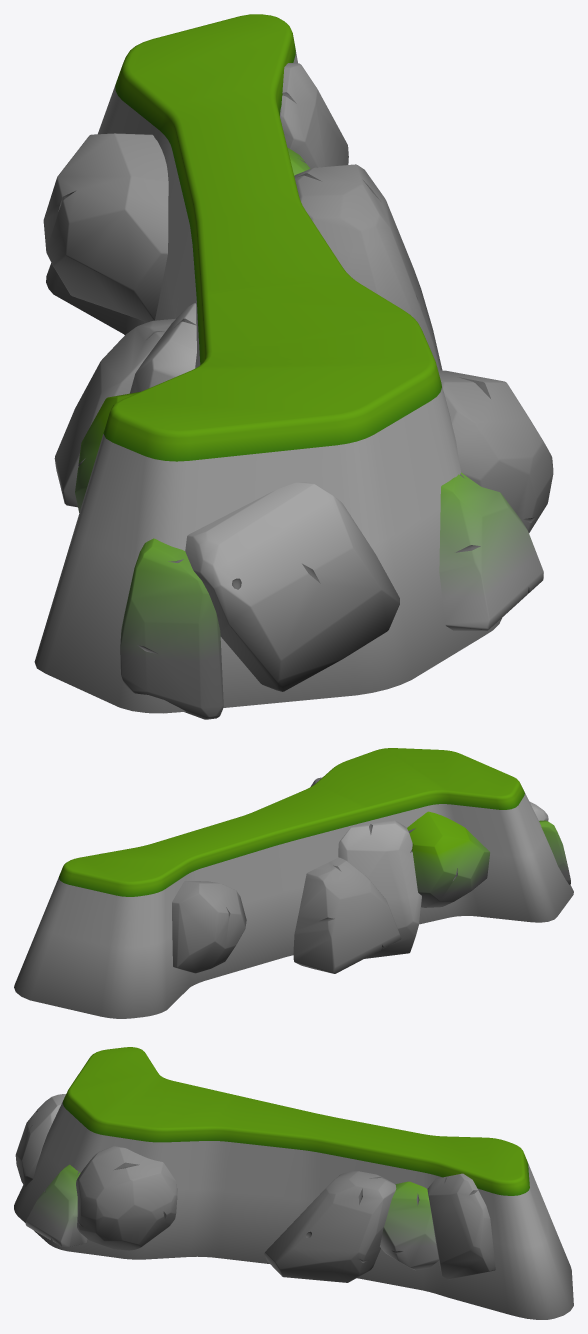
File: RockMountain06.fbx
The picture shows the model from 3 angles, top to bottom: view 1: azimuth 30°, elevation 25°; view 2: azimuth 150°, elevation 25°; view 3: azimuth 270°, elevation 25°; orthographic projection. The views are drawn at different scales.
Visible parts, largest first — view 1: LOD0; view 2: LOD0; view 3: LOD0.
Boxes of the visible parts, <box> form: LOD0: <box>34,14,553,719</box>; LOD0: <box>14,748,573,1018</box>; LOD0: <box>14,1047,573,1319</box>.
Size of what is drawn, in the model's own units: 1137 by 1560 by 447.
